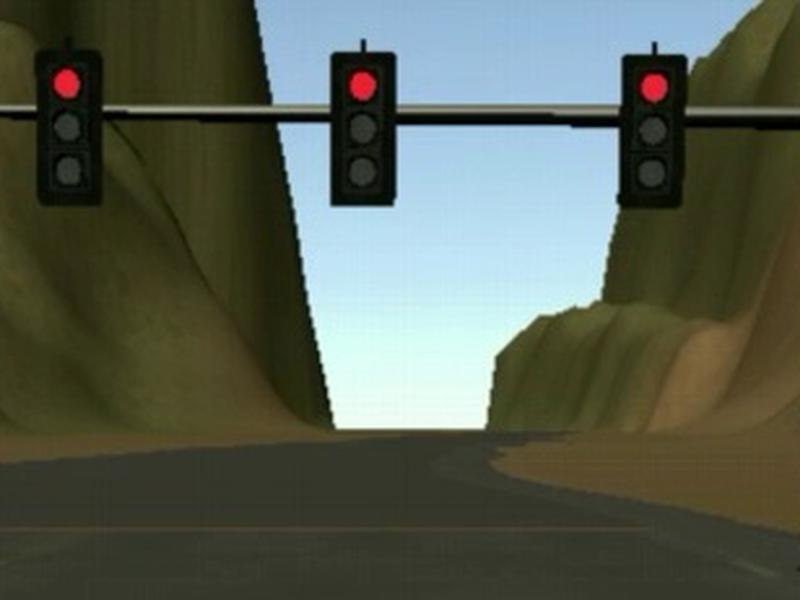Red: (618, 54, 687, 210), (331, 52, 397, 206), (36, 51, 101, 205)
